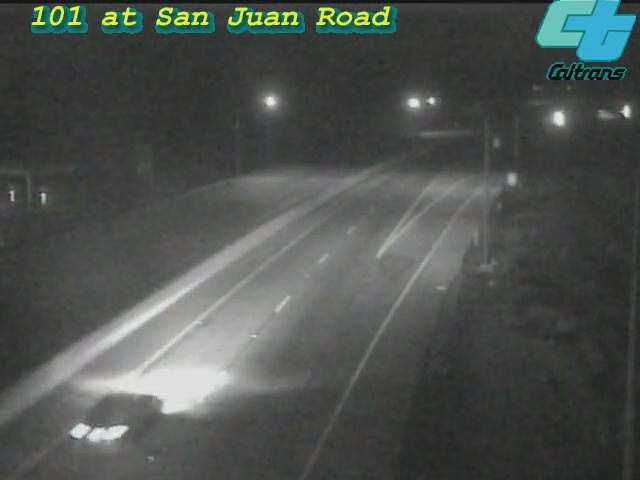vehicle: (64, 366, 174, 476), (582, 90, 632, 140), (533, 94, 583, 144), (601, 86, 640, 136)
